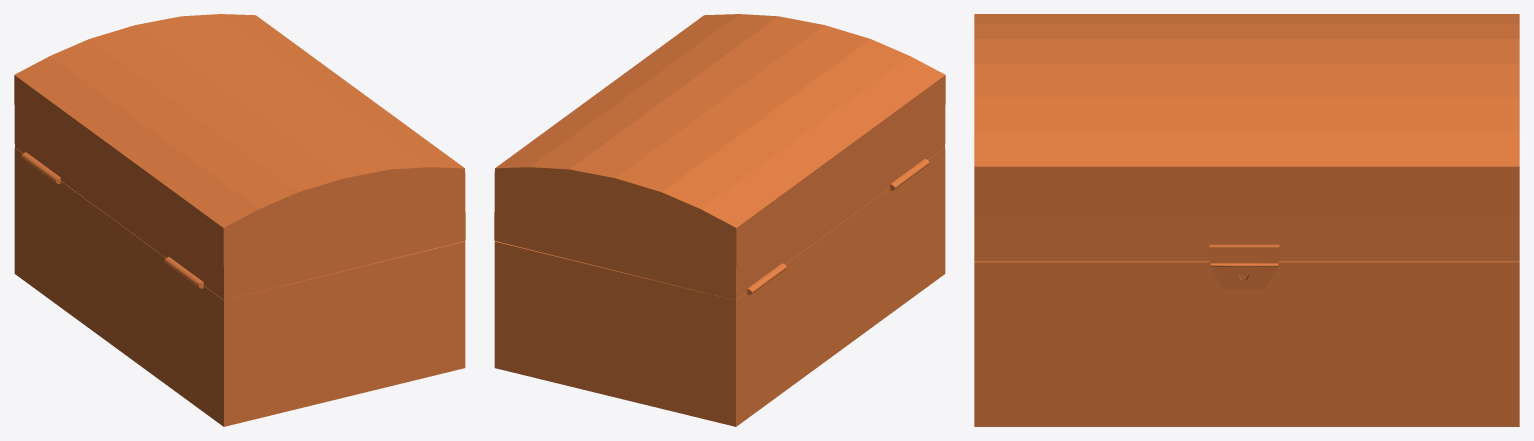
Rendered from F_Skrzynia.fbx.
3 views of the same model, side by side, from view 1: azimuth 30°, elevation 25°; view 2: azimuth 150°, elevation 25°; view 3: azimuth 270°, elevation 25° (orthographic). The views are drawn at different scales.
Parts seen in each view (by area): view 1: F_GóraSkrzyni, F_DółSkrzyni; view 2: F_GóraSkrzyni, F_DółSkrzyni; view 3: F_GóraSkrzyni, F_DółSkrzyni.
Part boxes in pixels (bbox=[...]): F_GóraSkrzyni: bbox=[14, 14, 465, 300]; F_DółSkrzyni: bbox=[14, 147, 465, 426]; F_GóraSkrzyni: bbox=[494, 14, 945, 300]; F_DółSkrzyni: bbox=[494, 147, 945, 426]; F_GóraSkrzyni: bbox=[974, 14, 1519, 289]; F_DółSkrzyni: bbox=[974, 261, 1519, 426].
Bounding box in the file's own units: 21.02 × 17.34 × 30.
